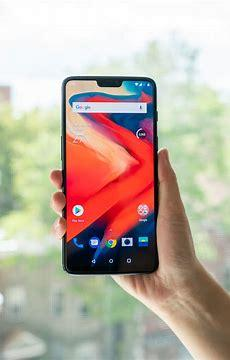Smart Phone: (59, 74, 160, 276)
